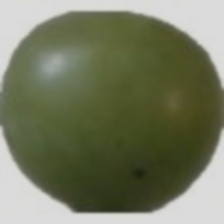grapes: (21, 27, 186, 206)
